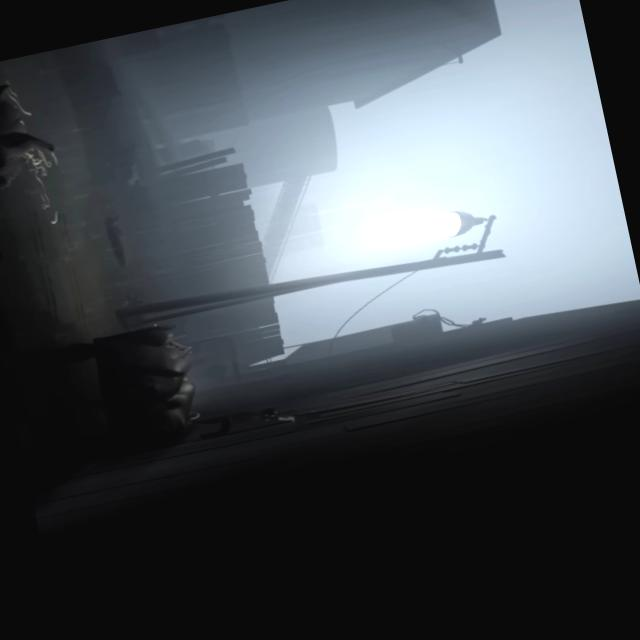boy: (184, 401, 294, 444)
